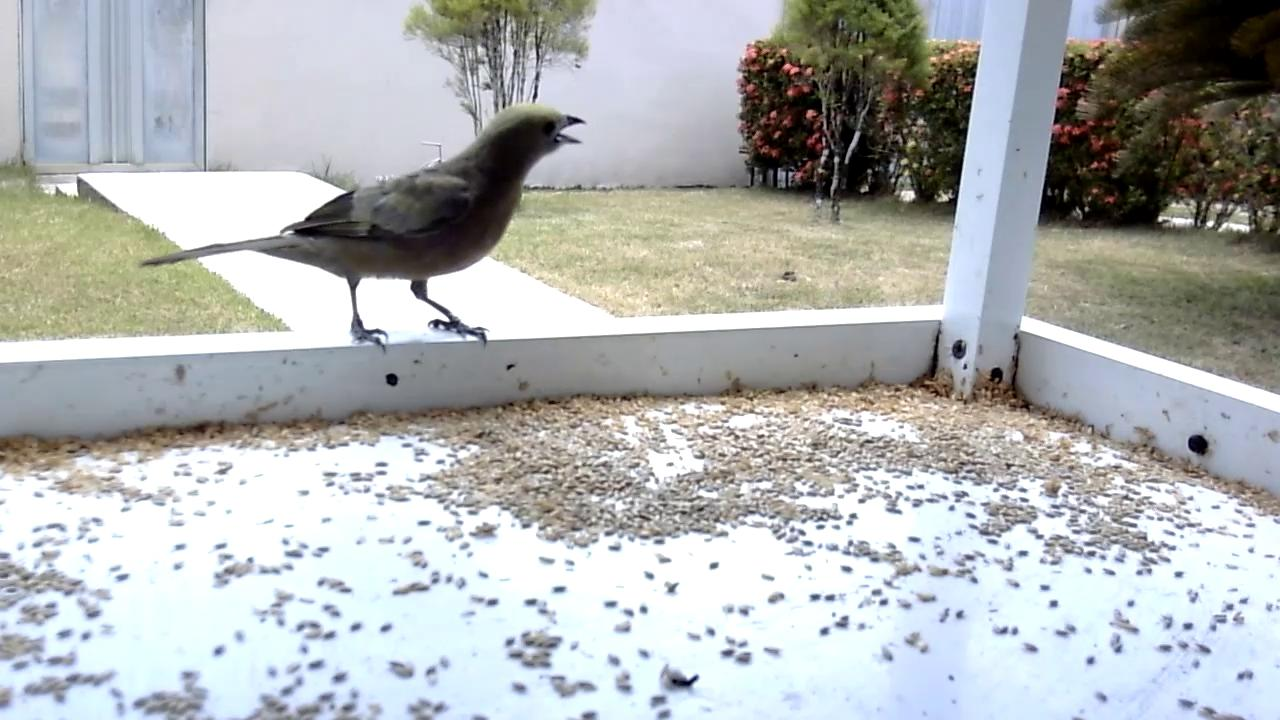sanhaco_do_coqueiro: (136, 102, 589, 360)
